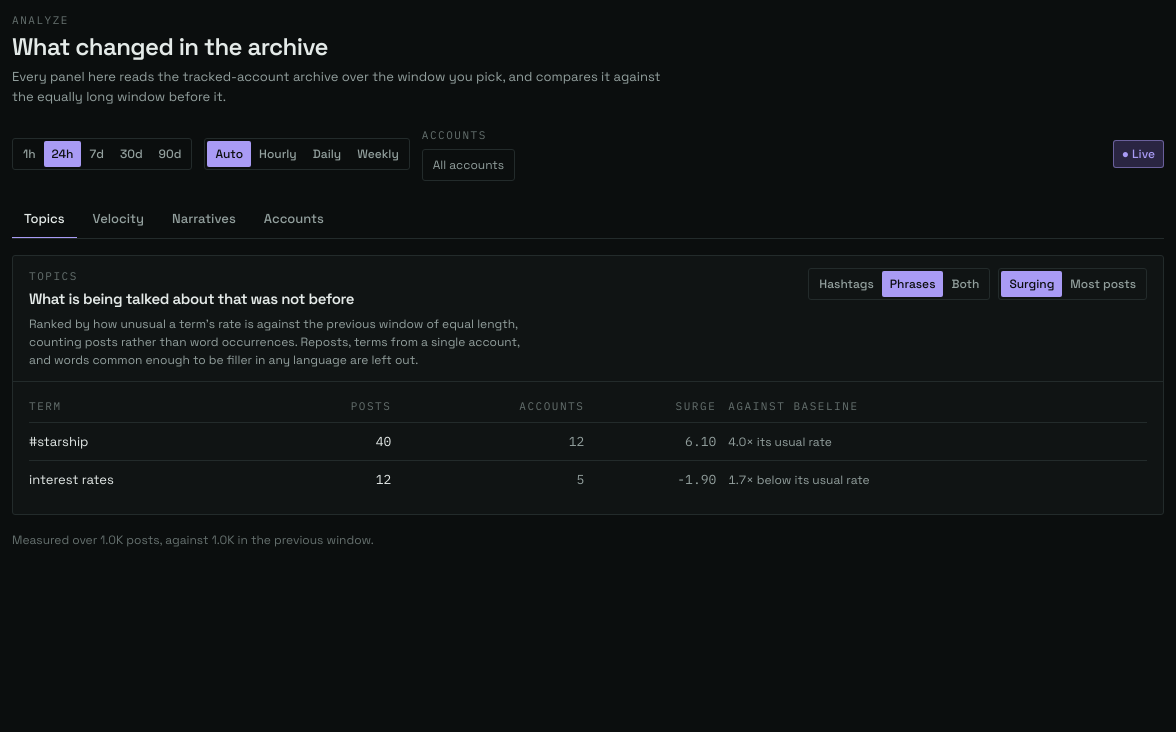
Test: Analyze narratives › keeps the newest range when responses finish out of order
Click the tab "Narratives". click: {"x": 204, "y": 220}
box: [160,201,248,239]
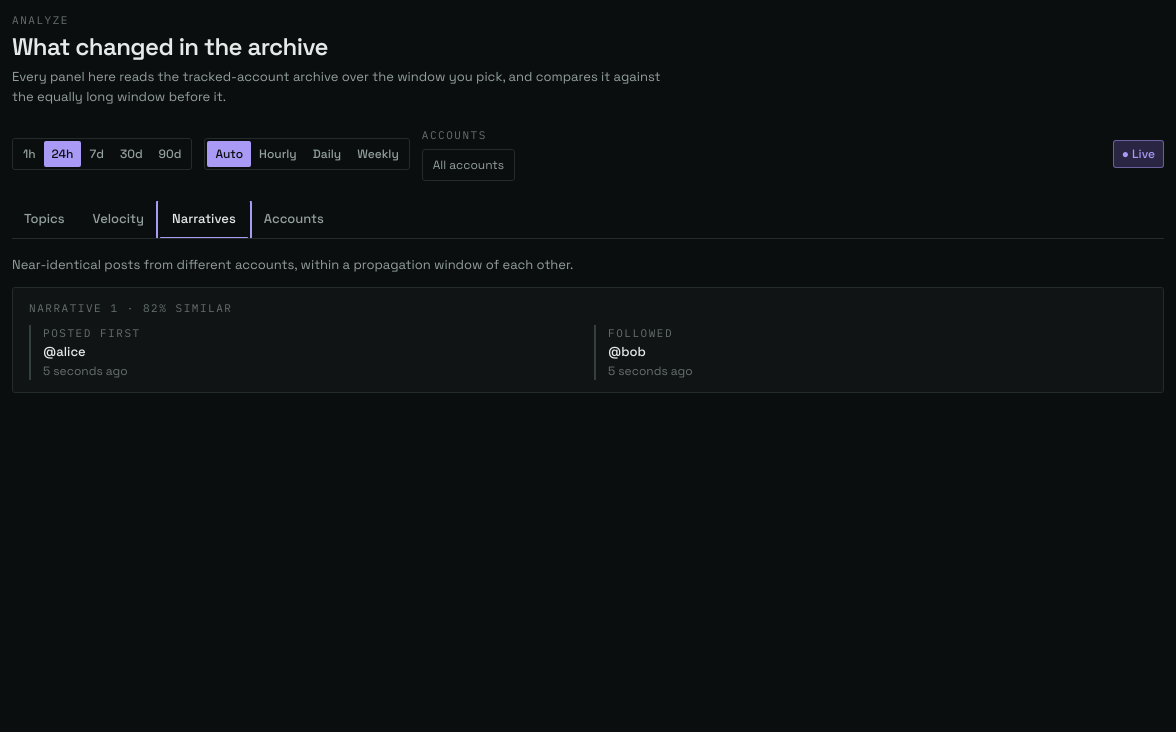
Click the button "7d". click: {"x": 97, "y": 154}
box: [82,141,112,167]
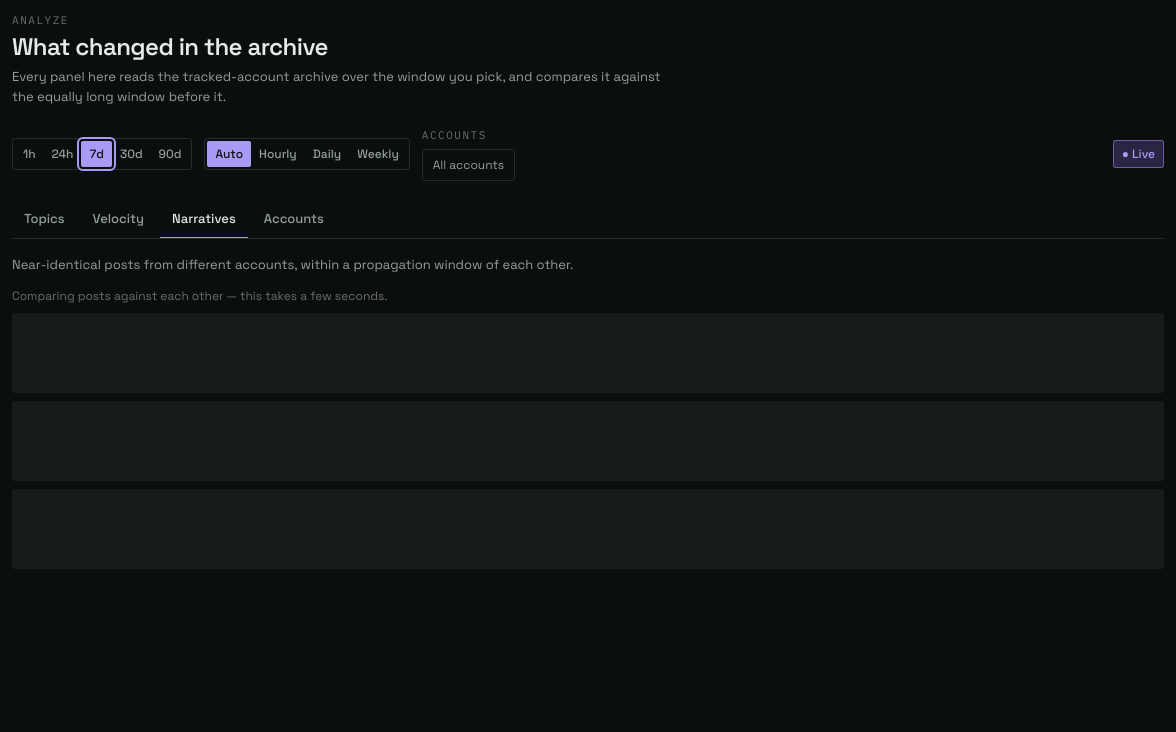
Click the button "30d". click: {"x": 131, "y": 154}
box: [112,141,151,167]
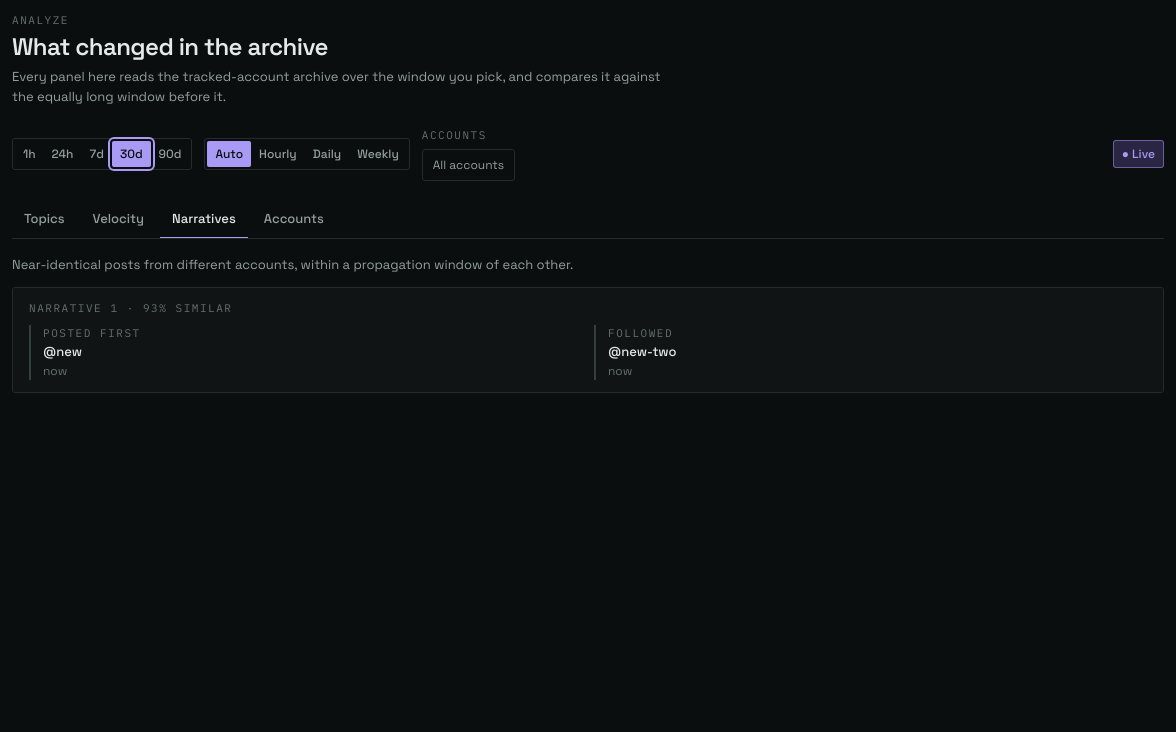
Expected: the text "Narrative 1 · 93% similar" is shown, [29,301,232,315]
